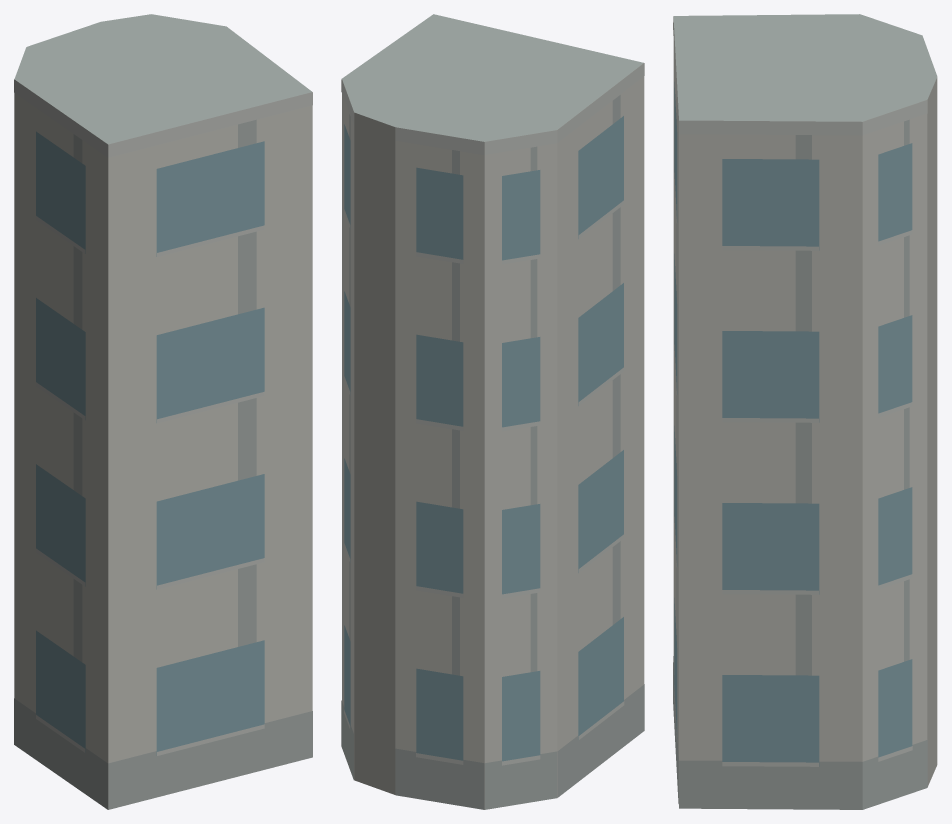
The model's file is survey-upis-32623379.glb.
3 renders of one model, left to right at view 1: azimuth 30°, elevation 25°; view 2: azimuth 150°, elevation 25°; view 3: azimuth 270°, elevation 25°, orthographic. The views are drawn at different scales.
Visible parts, largest first — view 1: survey-upis-32623379.tmp; view 2: survey-upis-32623379.tmp; view 3: survey-upis-32623379.tmp.
Part boxes in pixels (x1,y1,x2,y2): survey-upis-32623379.tmp: [14, 14, 312, 809]; survey-upis-32623379.tmp: [341, 14, 644, 809]; survey-upis-32623379.tmp: [673, 14, 937, 809].
Bounding box in the file's own units: 4.11 × 12.2 × 4.25.
